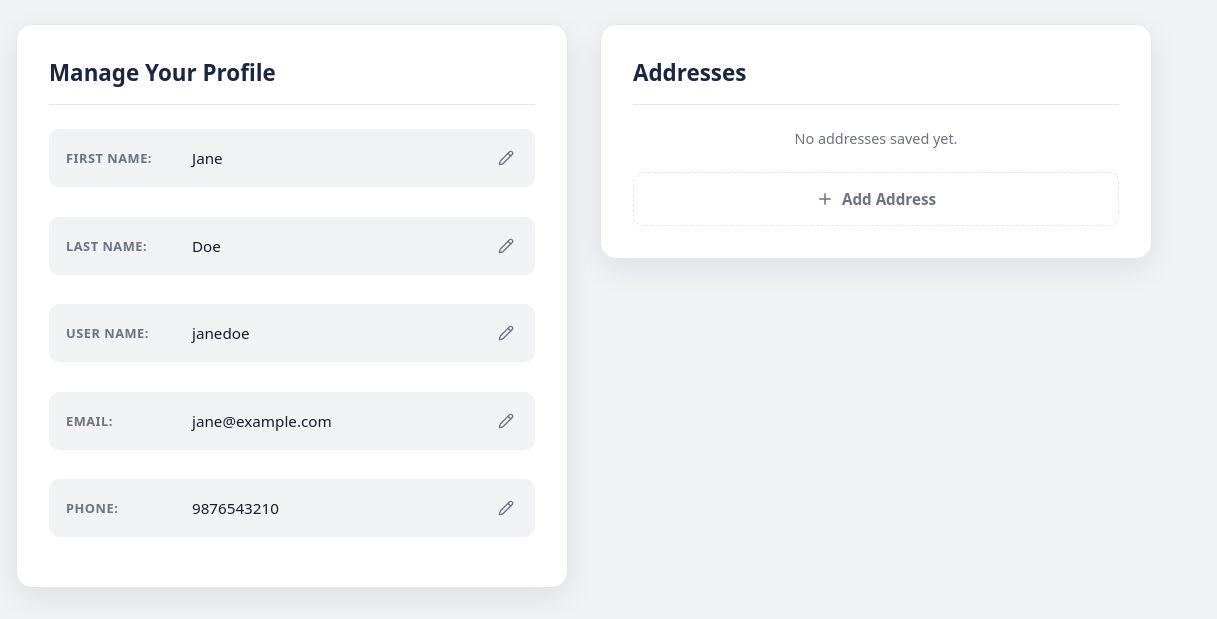
Scenario: ProfilePage — inline editing › shows inline field error and keeps editor open on validation failure
Click the button named "Edit Email".
click(506, 421)  # box [494, 409, 518, 433]
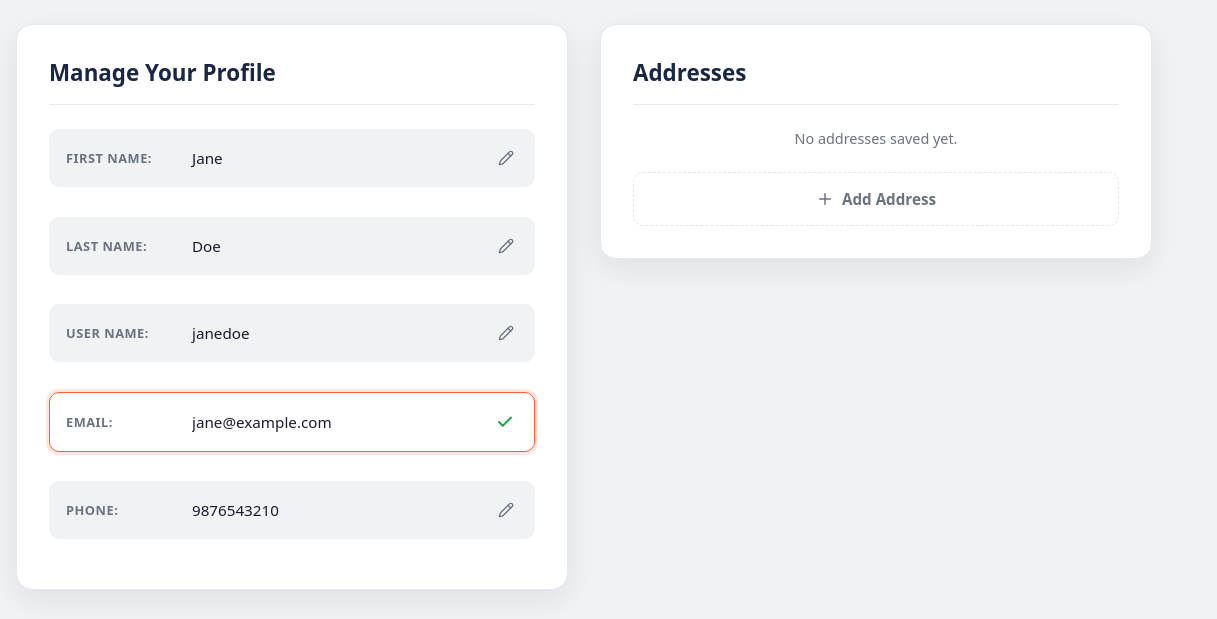
Click the button named "Save Email".
click(505, 422)  # box [492, 409, 518, 435]
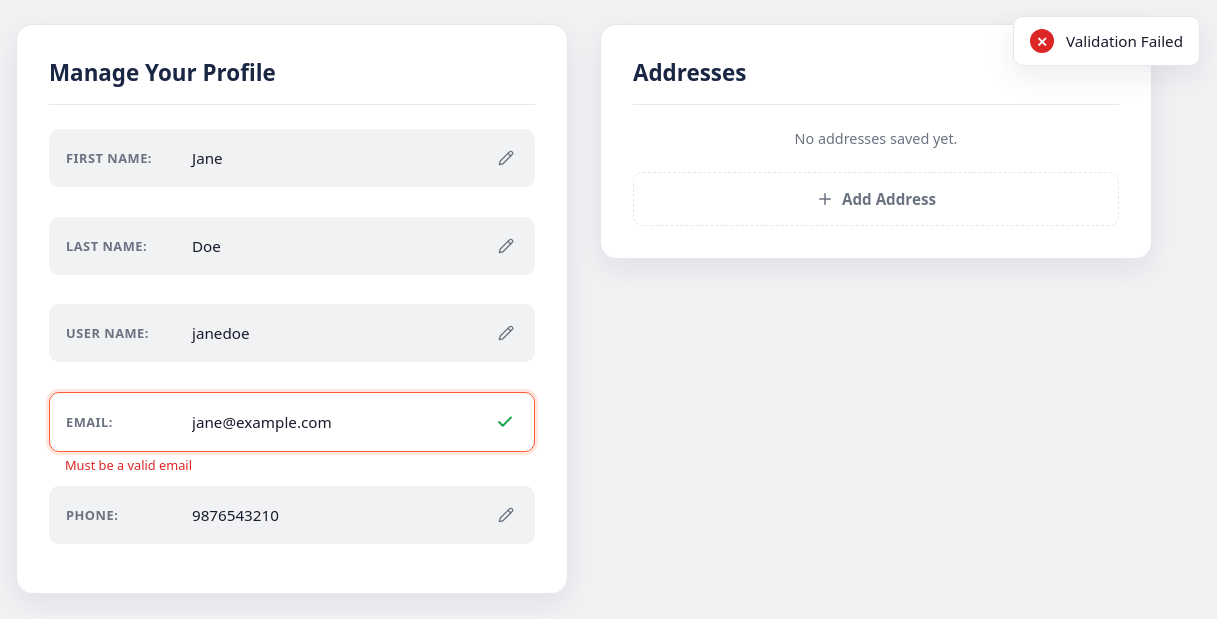
Result: the field named "Email" is shown at [192, 412, 476, 432]
Result: the text "Must be a valid email" is shown at [65, 456, 192, 474]
